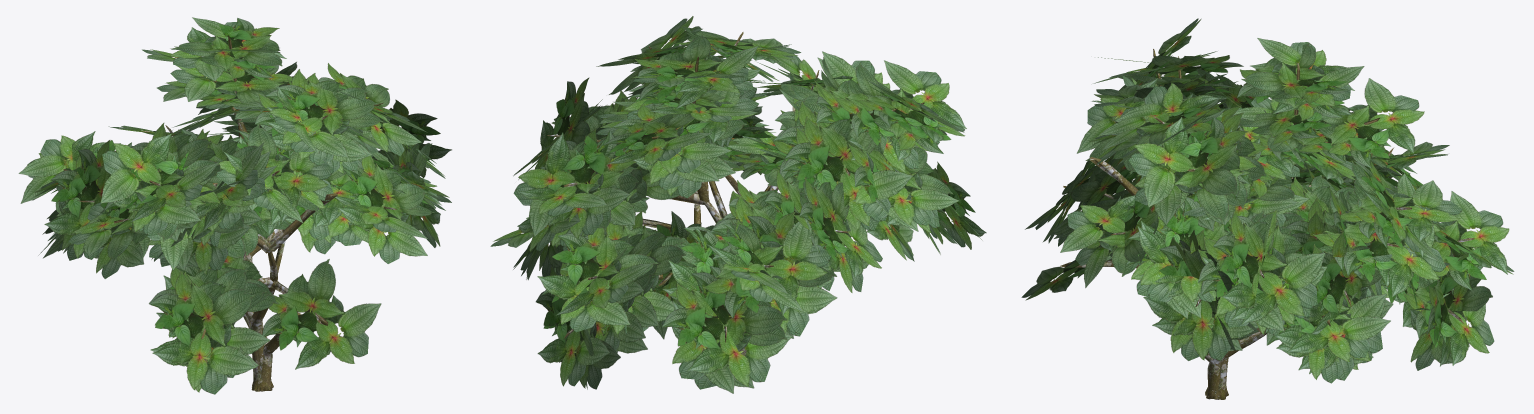
File: Bush_Jungle_Medium_01.glb
3 views of the same model, side by side, from view 1: azimuth 30°, elevation 25°; view 2: azimuth 150°, elevation 25°; view 3: azimuth 270°, elevation 25° (orthographic). The views are drawn at different scales.
Visible parts, largest first — view 1: bush_tree_05_B - copy.001; view 2: bush_tree_05_B - copy.001; view 3: bush_tree_05_B - copy.001.
Part boxes in pixels (x1,y1,x2,y2): bush_tree_05_B - copy.001: (18,17,451,394); bush_tree_05_B - copy.001: (490,16,986,393); bush_tree_05_B - copy.001: (1021,18,1514,399).
Size of the model in its own units: 0.9121 by 0.7358 by 0.9781.
Materials: 2 (2 with a texture image).
